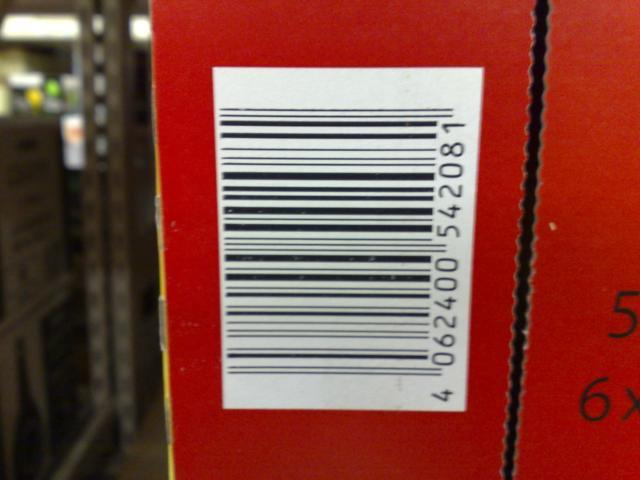Barcode: (213, 65, 484, 415)
